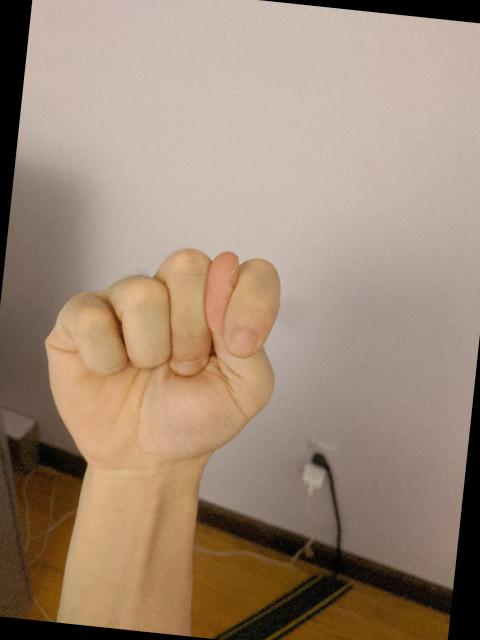T: (26, 221, 298, 493)
